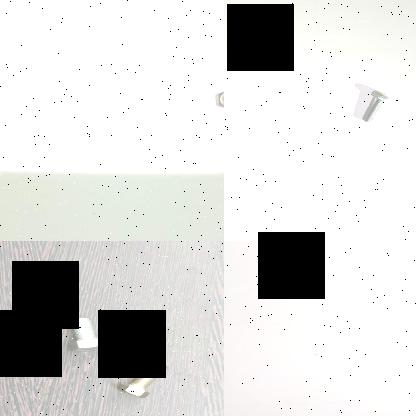Bolts: (110, 362, 173, 402), (61, 315, 114, 353), (358, 90, 392, 126)
NUTS: (197, 84, 224, 116)
